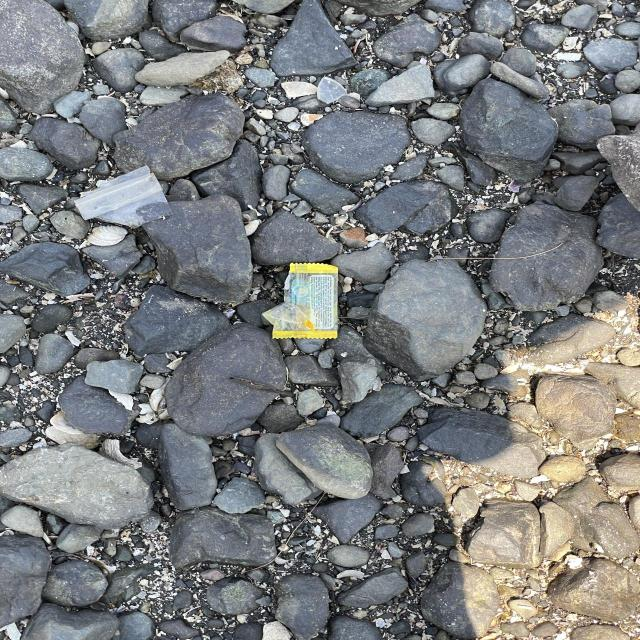plastic_waste: (265, 263, 343, 341)
